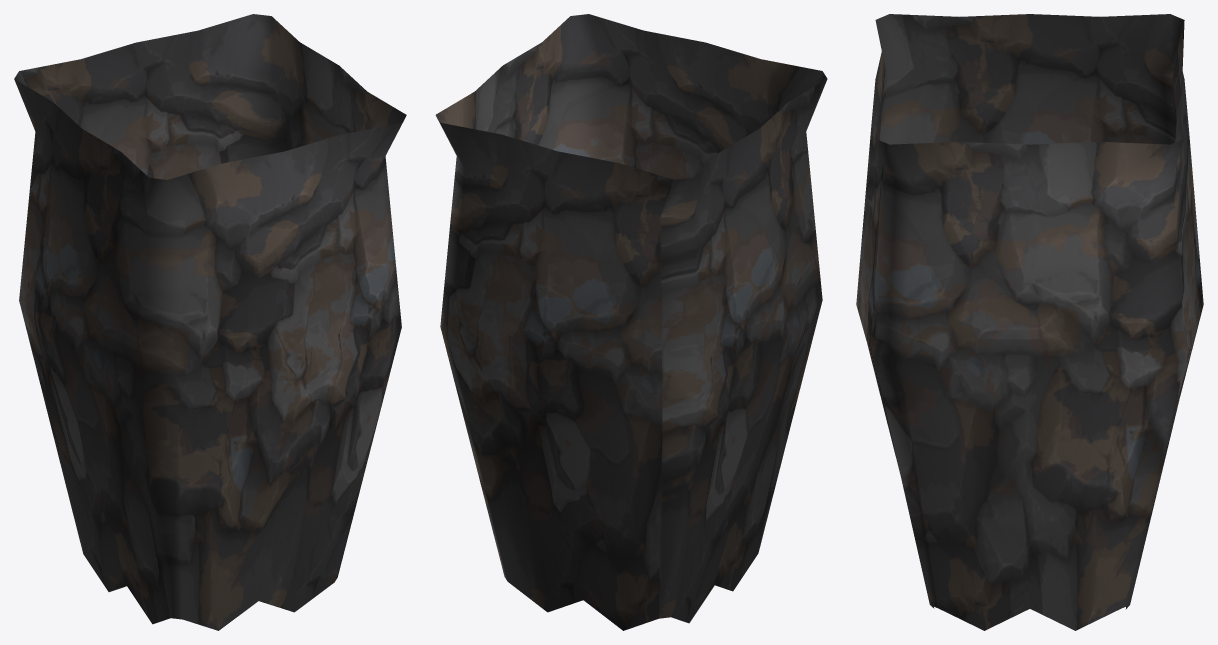
The model's file is Forest_Soil_Btm.fbx.
3 views of the same model, side by side, from view 1: azimuth 30°, elevation 25°; view 2: azimuth 150°, elevation 25°; view 3: azimuth 270°, elevation 25° (orthographic). The views are drawn at different scales.
Parts seen in each view (by area): view 1: Forest_Soil_Btm; view 2: Forest_Soil_Btm; view 3: Forest_Soil_Btm.
Part boxes in pixels (left/top/right/bottom): Forest_Soil_Btm: left=14, top=14, right=406, bottom=630; Forest_Soil_Btm: left=435, top=14, right=827, bottom=630; Forest_Soil_Btm: left=856, top=14, right=1203, bottom=630.
Bounding box in the file's own units: 259 × 420 × 259.
